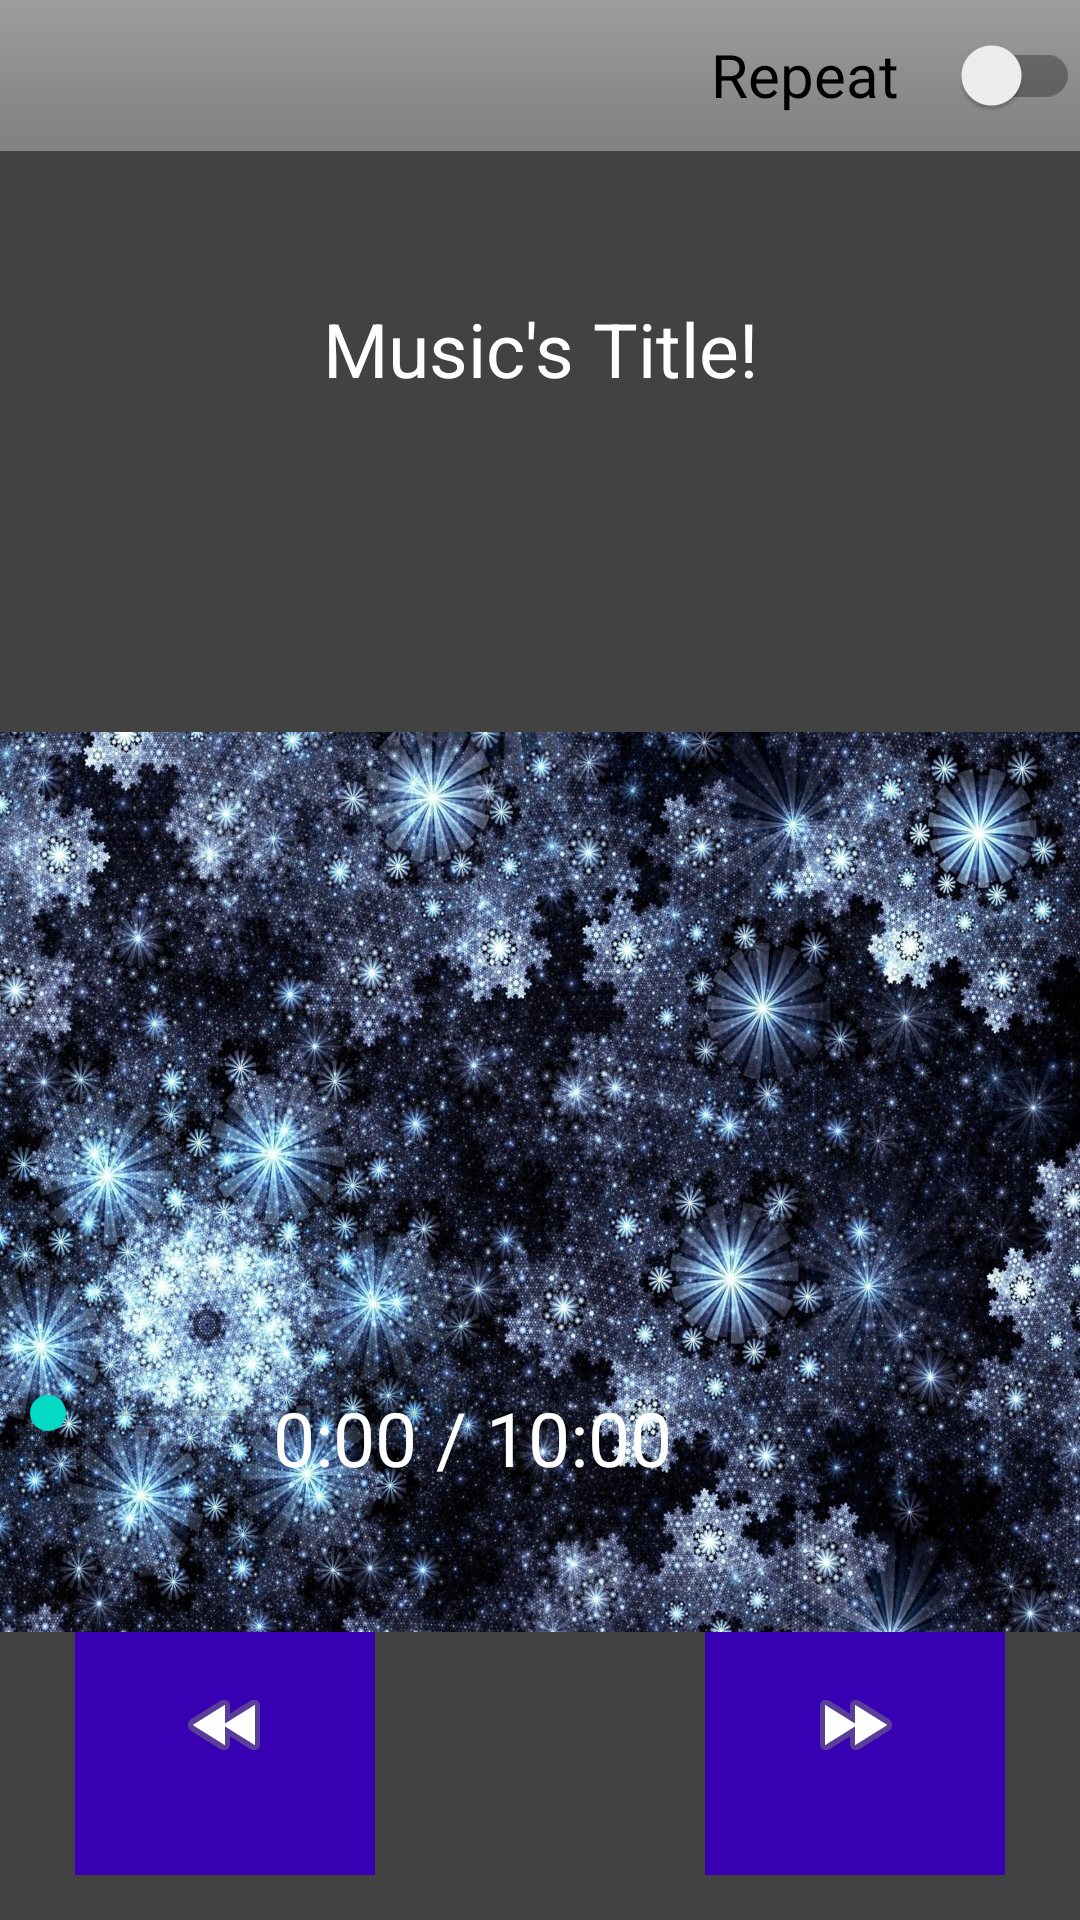

Screen size 1080px x 1920px. Icon name, then its box in pixels as (x1, y1, x2, y2):
rew: (75, 1575, 375, 1875)
